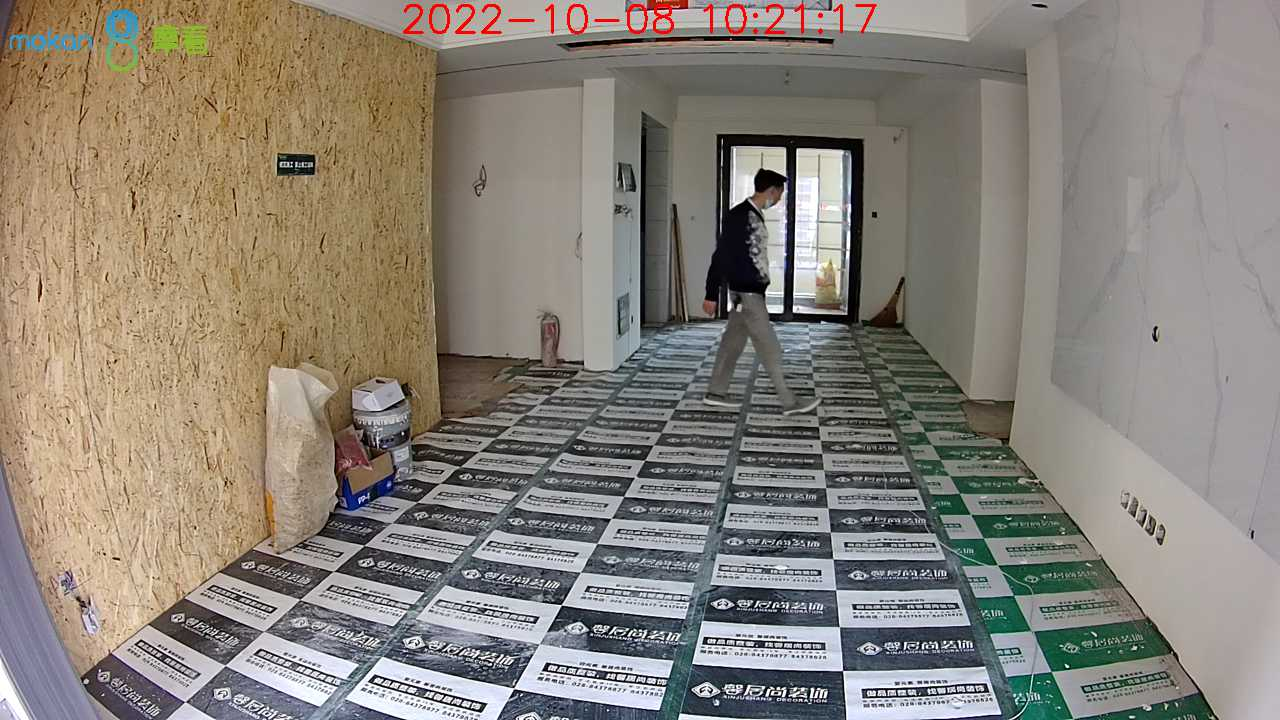people: (708, 170, 822, 416)
window: (725, 143, 859, 315)
